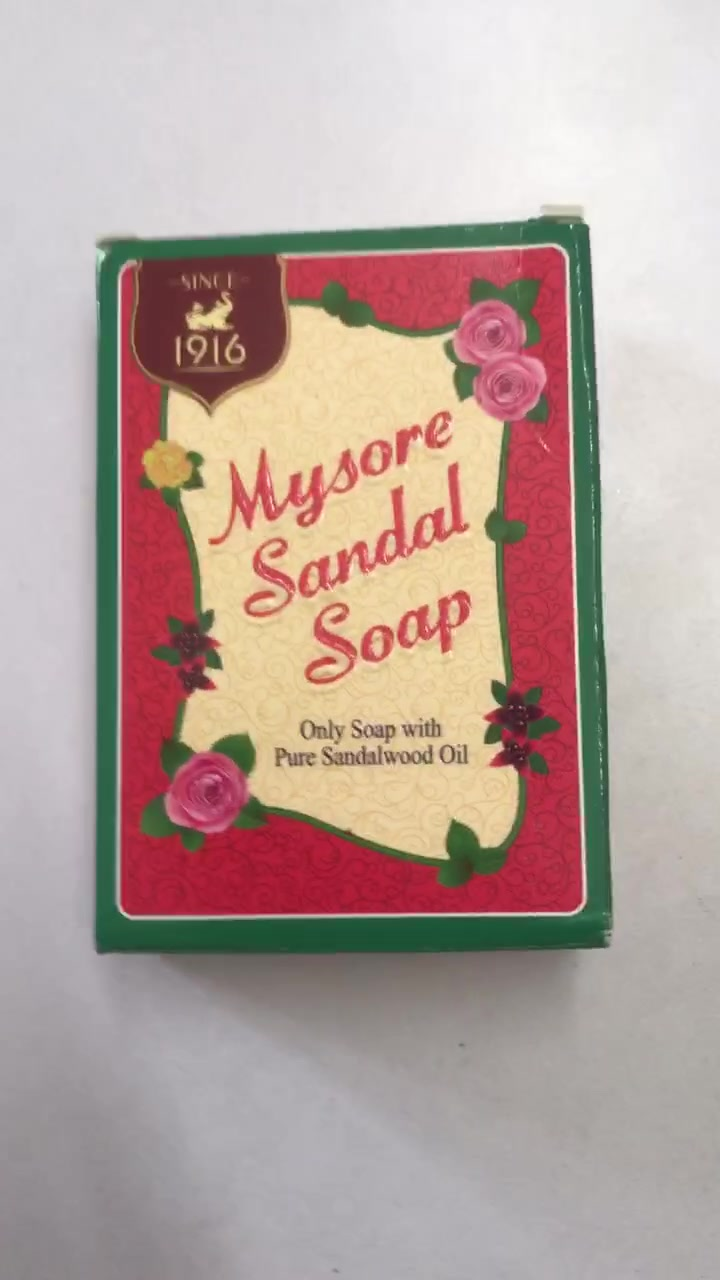mysore sandal soap: (89, 217, 620, 948)
